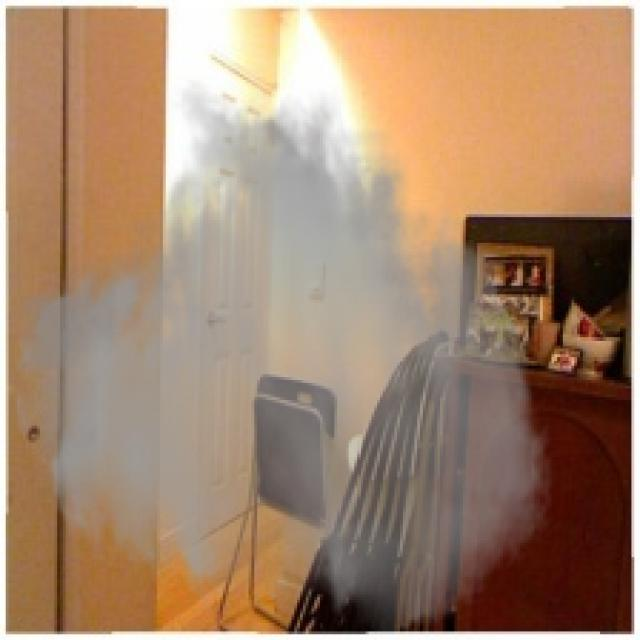smoke: (9, 77, 557, 637)
